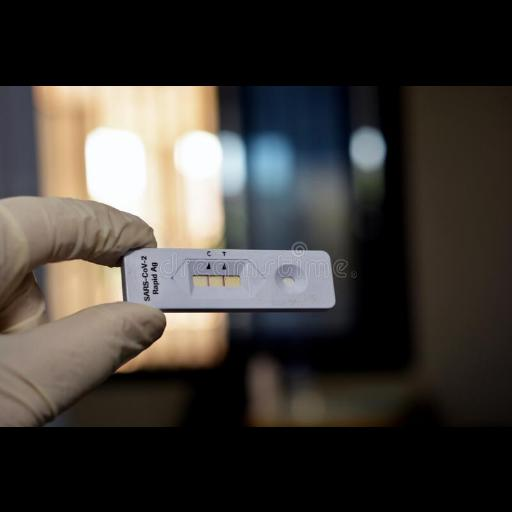Pos: (126, 246, 334, 306)
